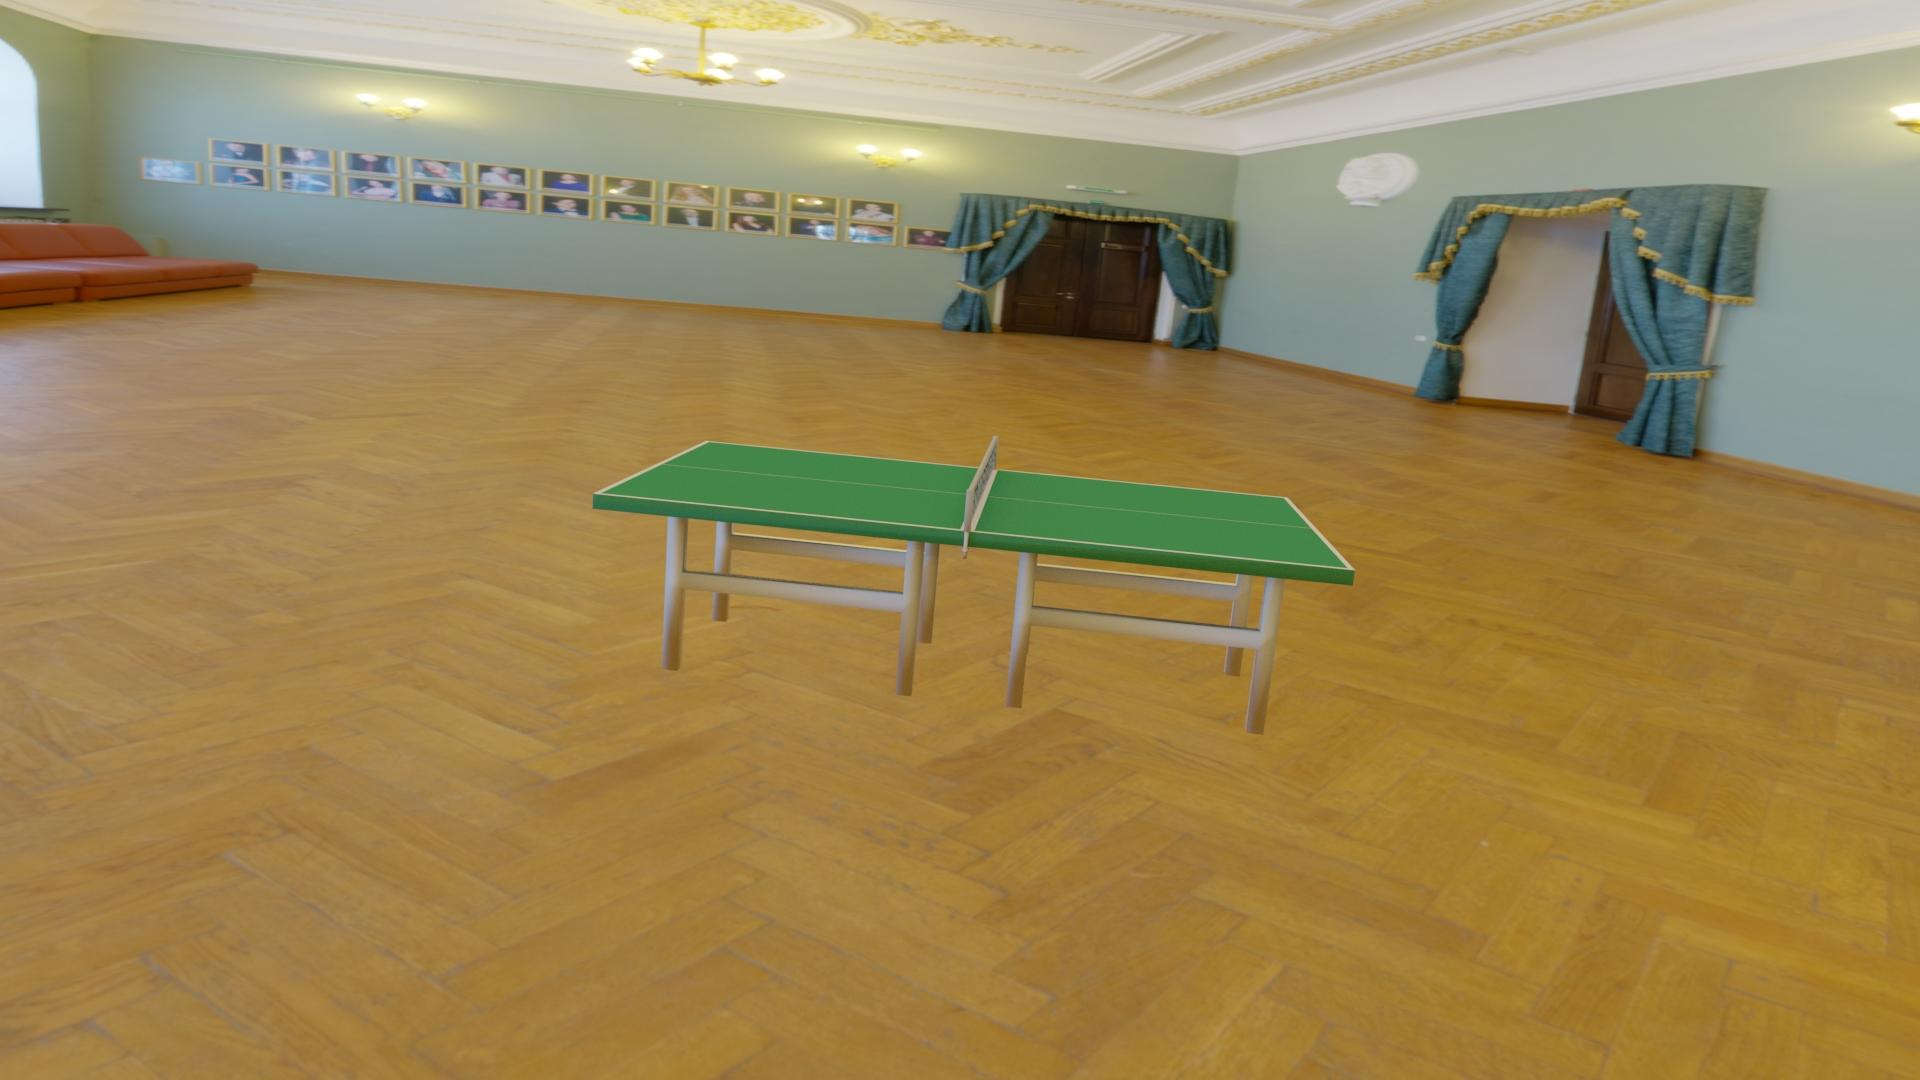table: (600, 442, 1348, 568)
